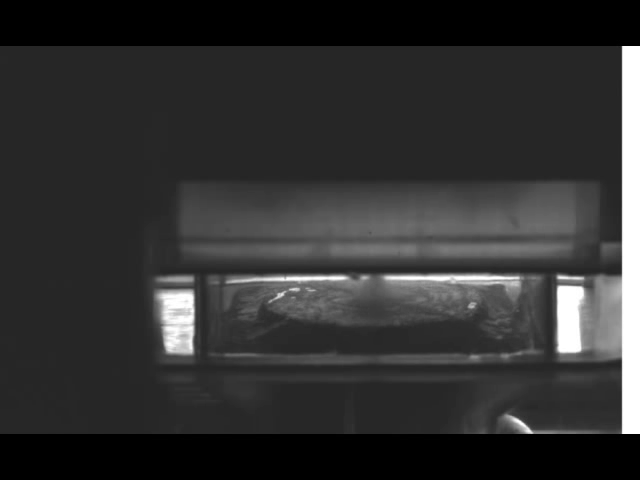Zona de teste: (264, 276, 481, 330)
